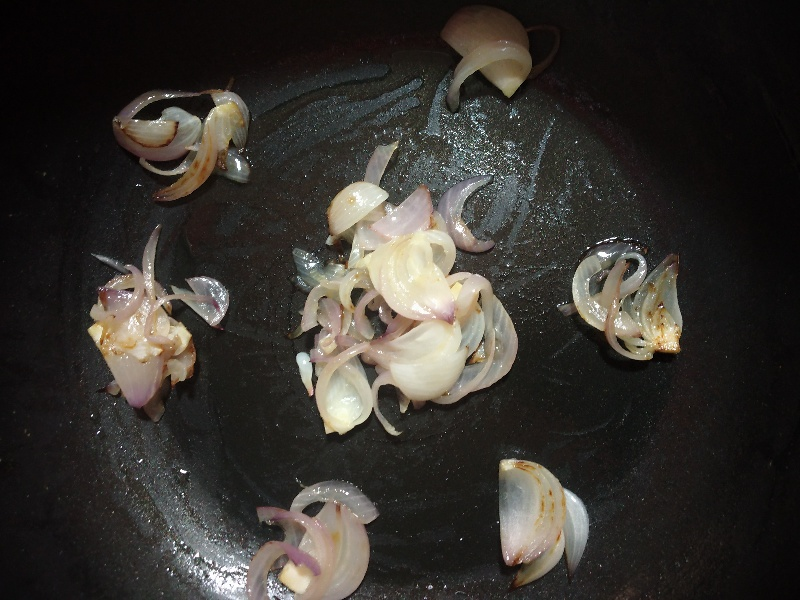onion_golden: (80, 254, 233, 421), (95, 95, 255, 205), (575, 232, 691, 365), (492, 458, 589, 594)
